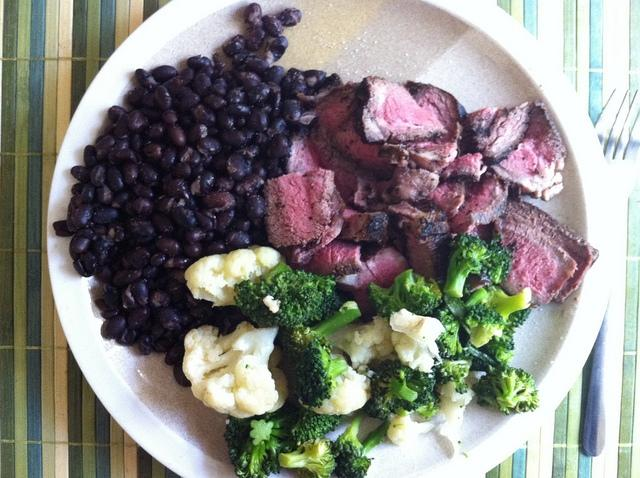broccoli: (232, 255, 342, 329), (224, 402, 300, 476), (443, 233, 514, 298), (366, 267, 443, 321), (432, 289, 489, 359), (294, 340, 348, 410), (471, 365, 540, 415), (330, 409, 374, 478), (384, 364, 436, 414), (370, 358, 418, 410), (278, 438, 339, 478), (292, 407, 348, 448), (482, 285, 532, 325), (465, 303, 505, 348), (434, 358, 472, 395), (460, 281, 472, 302)
cauliflower: (182, 321, 289, 418), (184, 244, 286, 307), (298, 353, 372, 416), (326, 316, 402, 371), (389, 308, 446, 373), (435, 380, 473, 458), (387, 415, 436, 446)
